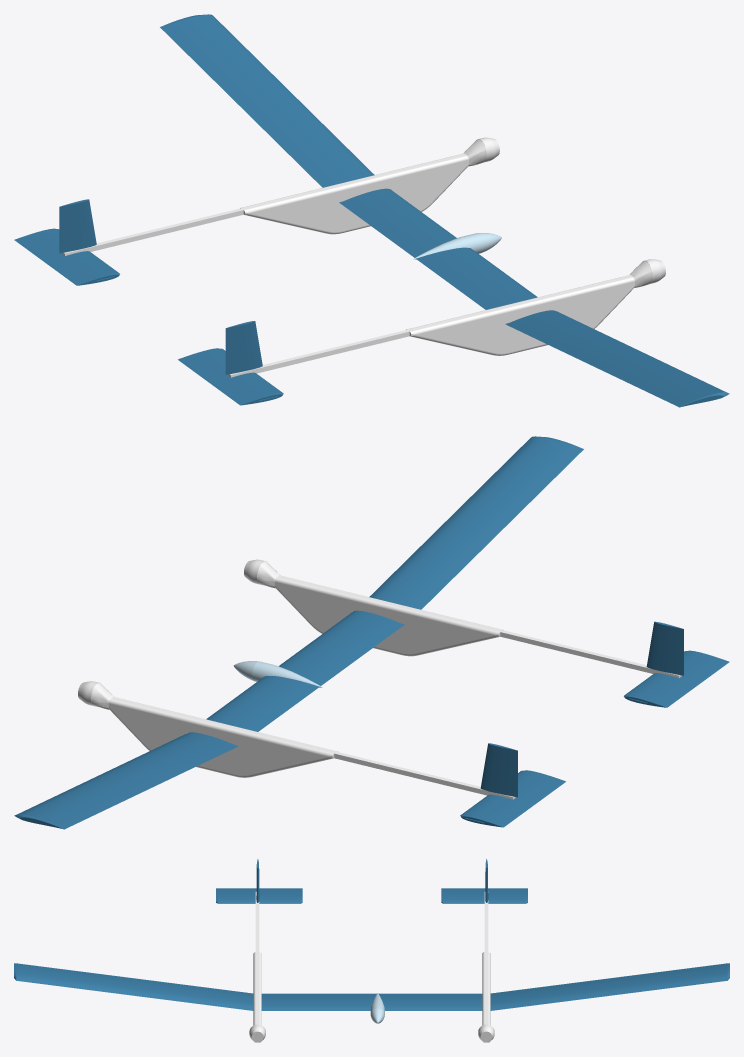
File: icav-spi.glb
The picture shows the model from 3 angles, top to bottom: view 1: azimuth 30°, elevation 25°; view 2: azimuth 150°, elevation 25°; view 3: azimuth 270°, elevation 25°; orthographic projection. The views are drawn at different scales.
Parts seen in each view (by area): view 1: Wing, Pod and boom (×2), Tailplane (×2), Fin (×2), Motor and spinner (×2), Payload fairing; view 2: Wing, Pod and boom (×2), Tailplane (×2), Fin (×2), Motor and spinner (×2), Payload fairing; view 3: Wing, Tailplane (×2), Pod and boom (×2), Payload fairing.
Part boxes in pixels (left/top/right/bottom): Wing: left=160, top=14, right=729, bottom=407; Pod and boom (×2): left=62, top=153, right=634, bottom=377; Tailplane (×2): left=14, top=228, right=283, bottom=405; Fin (×2): left=59, top=199, right=262, bottom=374; Motor and spinner (×2): left=464, top=137, right=665, bottom=287; Payload fairing: left=413, top=233, right=501, bottom=259; Wing: left=14, top=436, right=583, bottom=829; Pod and boom (×2): left=109, top=575, right=681, bottom=799; Tailplane (×2): left=460, top=650, right=729, bottom=827; Fin (×2): left=480, top=621, right=683, bottom=797; Motor and spinner (×2): left=78, top=559, right=279, bottom=709; Payload fairing: left=233, top=661, right=322, bottom=687; Wing: left=14, top=963, right=729, bottom=1010; Tailplane (×2): left=216, top=888, right=527, bottom=903; Pod and boom (×2): left=253, top=891, right=490, bottom=1042; Payload fairing: left=370, top=993, right=384, bottom=1023.
Bounding box in the file's own units: 3.03 × 0.6 × 6.04.
